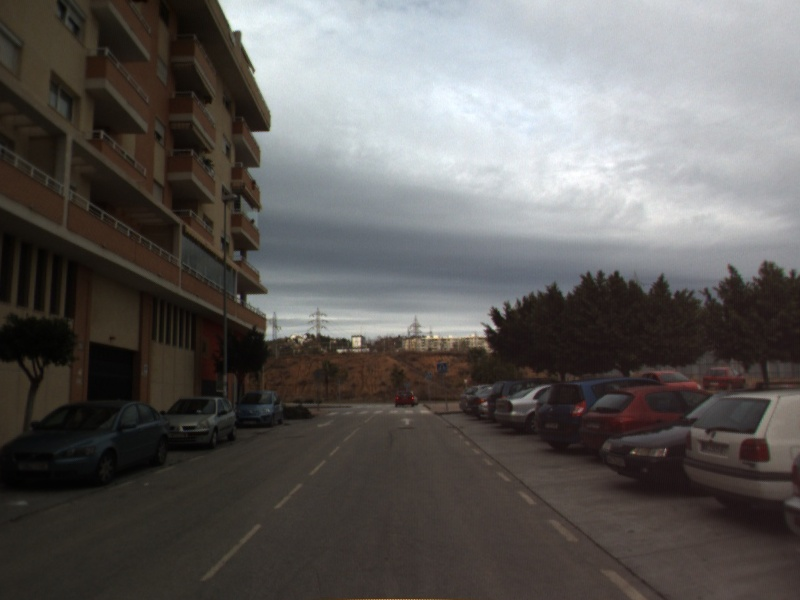STRAIGHT: (398, 416, 416, 427)
